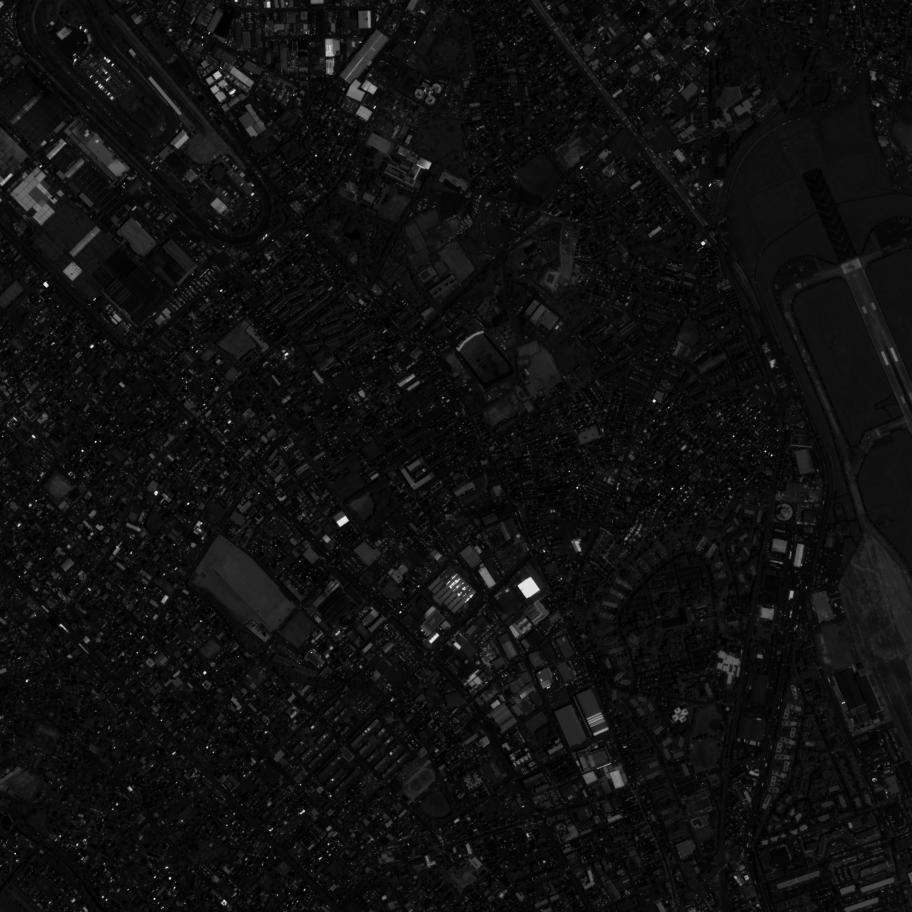storage-tank: (886, 763, 892, 767), (878, 765, 882, 769), (873, 778, 876, 781)
